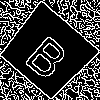B: (23, 26, 77, 83)
